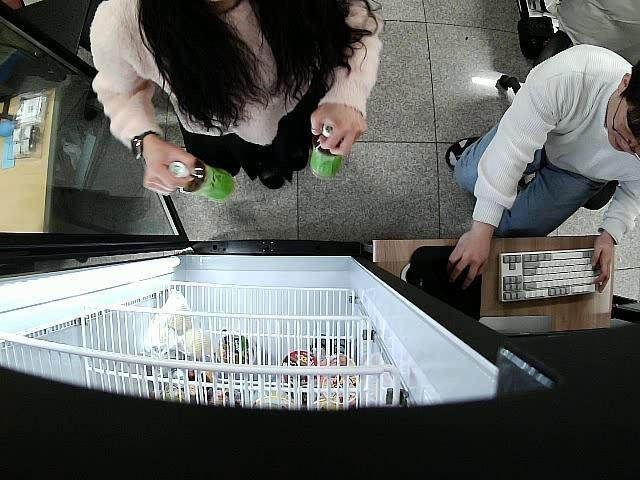19_17cha: (167, 160, 237, 205), (307, 120, 348, 183)
